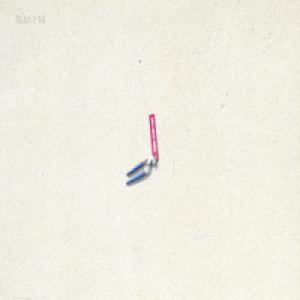Label: (148, 114, 158, 163)
Pliers: (125, 155, 156, 186)
